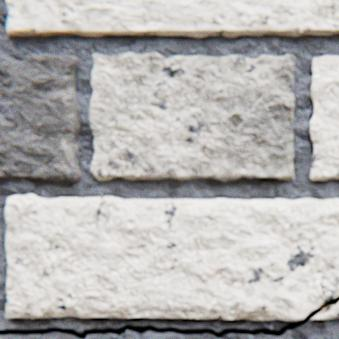brick: (90, 53, 295, 182), (7, 0, 338, 38), (0, 55, 82, 183), (310, 57, 338, 181)
broken_brick: (6, 195, 338, 321), (310, 303, 338, 319)
crack: (0, 296, 338, 338)
